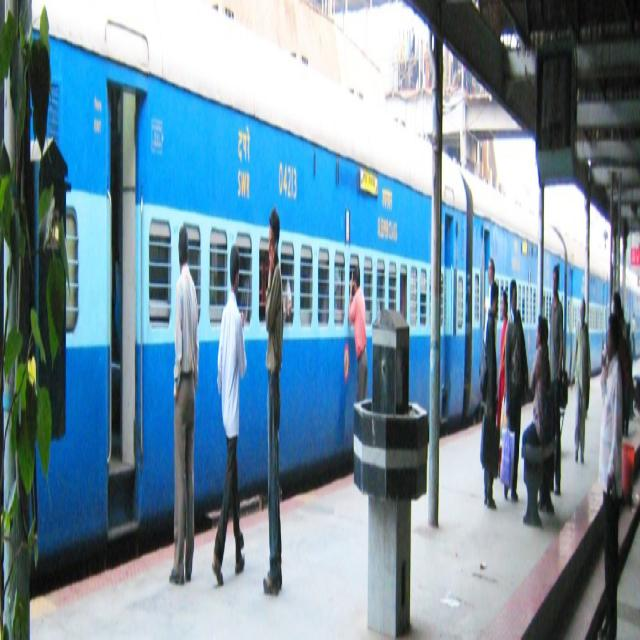body: (166, 220, 200, 590), (211, 240, 247, 589), (596, 307, 622, 639), (262, 205, 284, 597), (520, 311, 548, 512), (479, 279, 500, 512), (504, 277, 525, 505), (570, 293, 592, 468), (548, 263, 564, 498), (109, 213, 125, 438), (537, 317, 552, 514), (440, 36, 486, 98), (536, 66, 568, 154), (348, 263, 368, 401), (495, 287, 509, 482), (397, 21, 434, 94), (620, 316, 636, 469), (611, 289, 626, 435), (482, 253, 498, 353), (234, 243, 252, 330), (282, 273, 293, 333), (629, 309, 636, 361)
